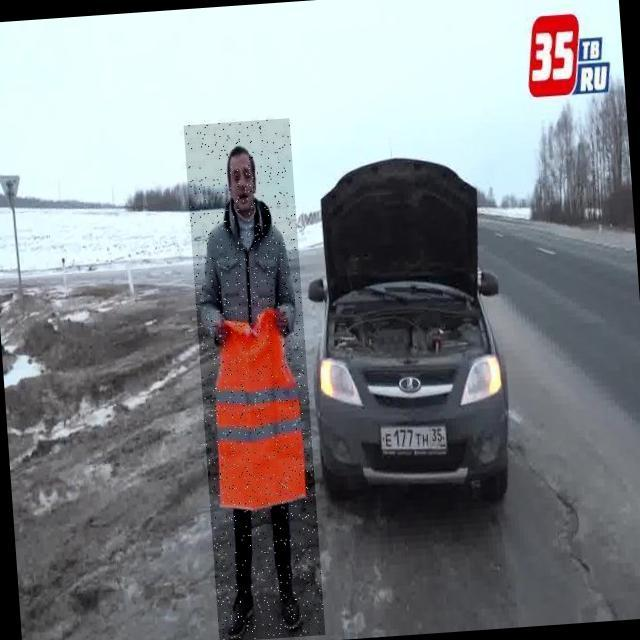Human: (183, 117, 325, 640)
Safety Vest: (206, 309, 312, 518)
